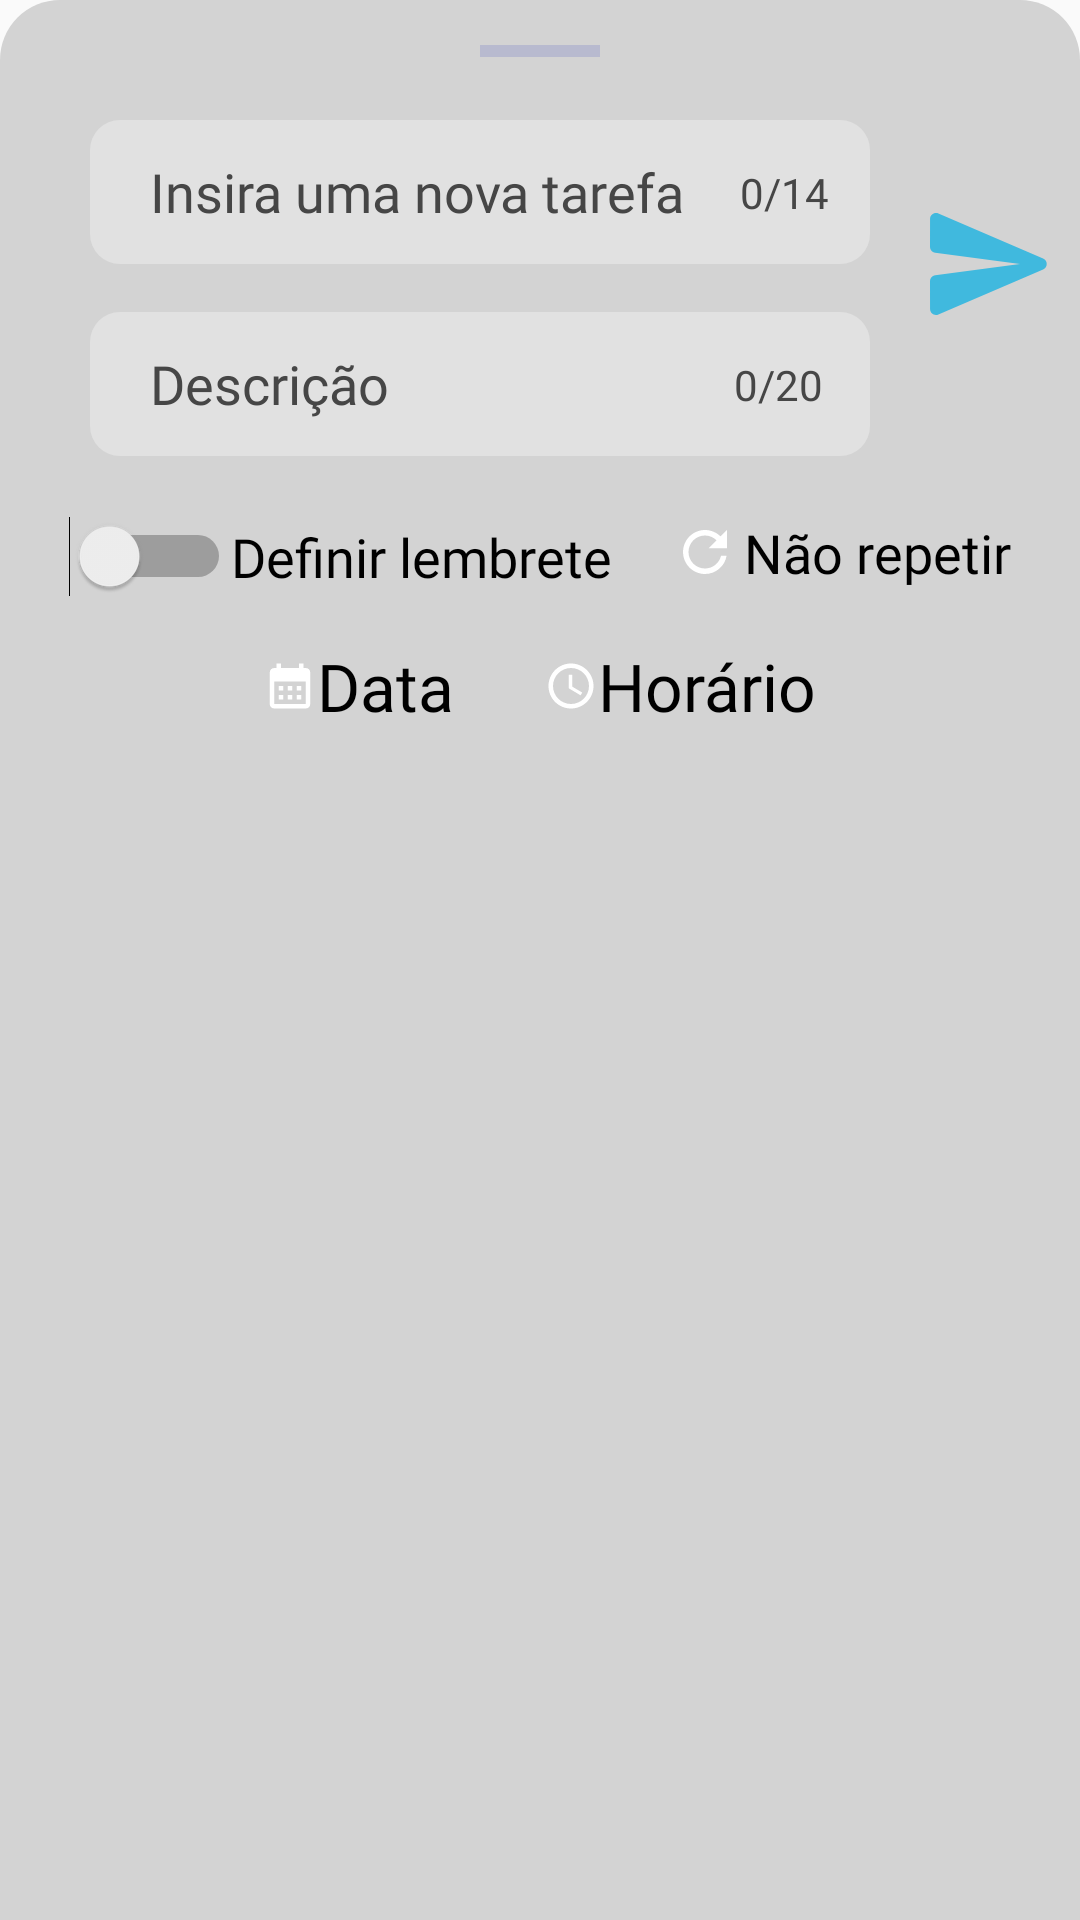

Screen size 1080 × 1920. Icon name, then its box in pixels as {"left": x1, "top": y1, "right": x2, "bottom": y2}:
send: {"left": 930, "top": 213, "right": 1047, "bottom": 315}
